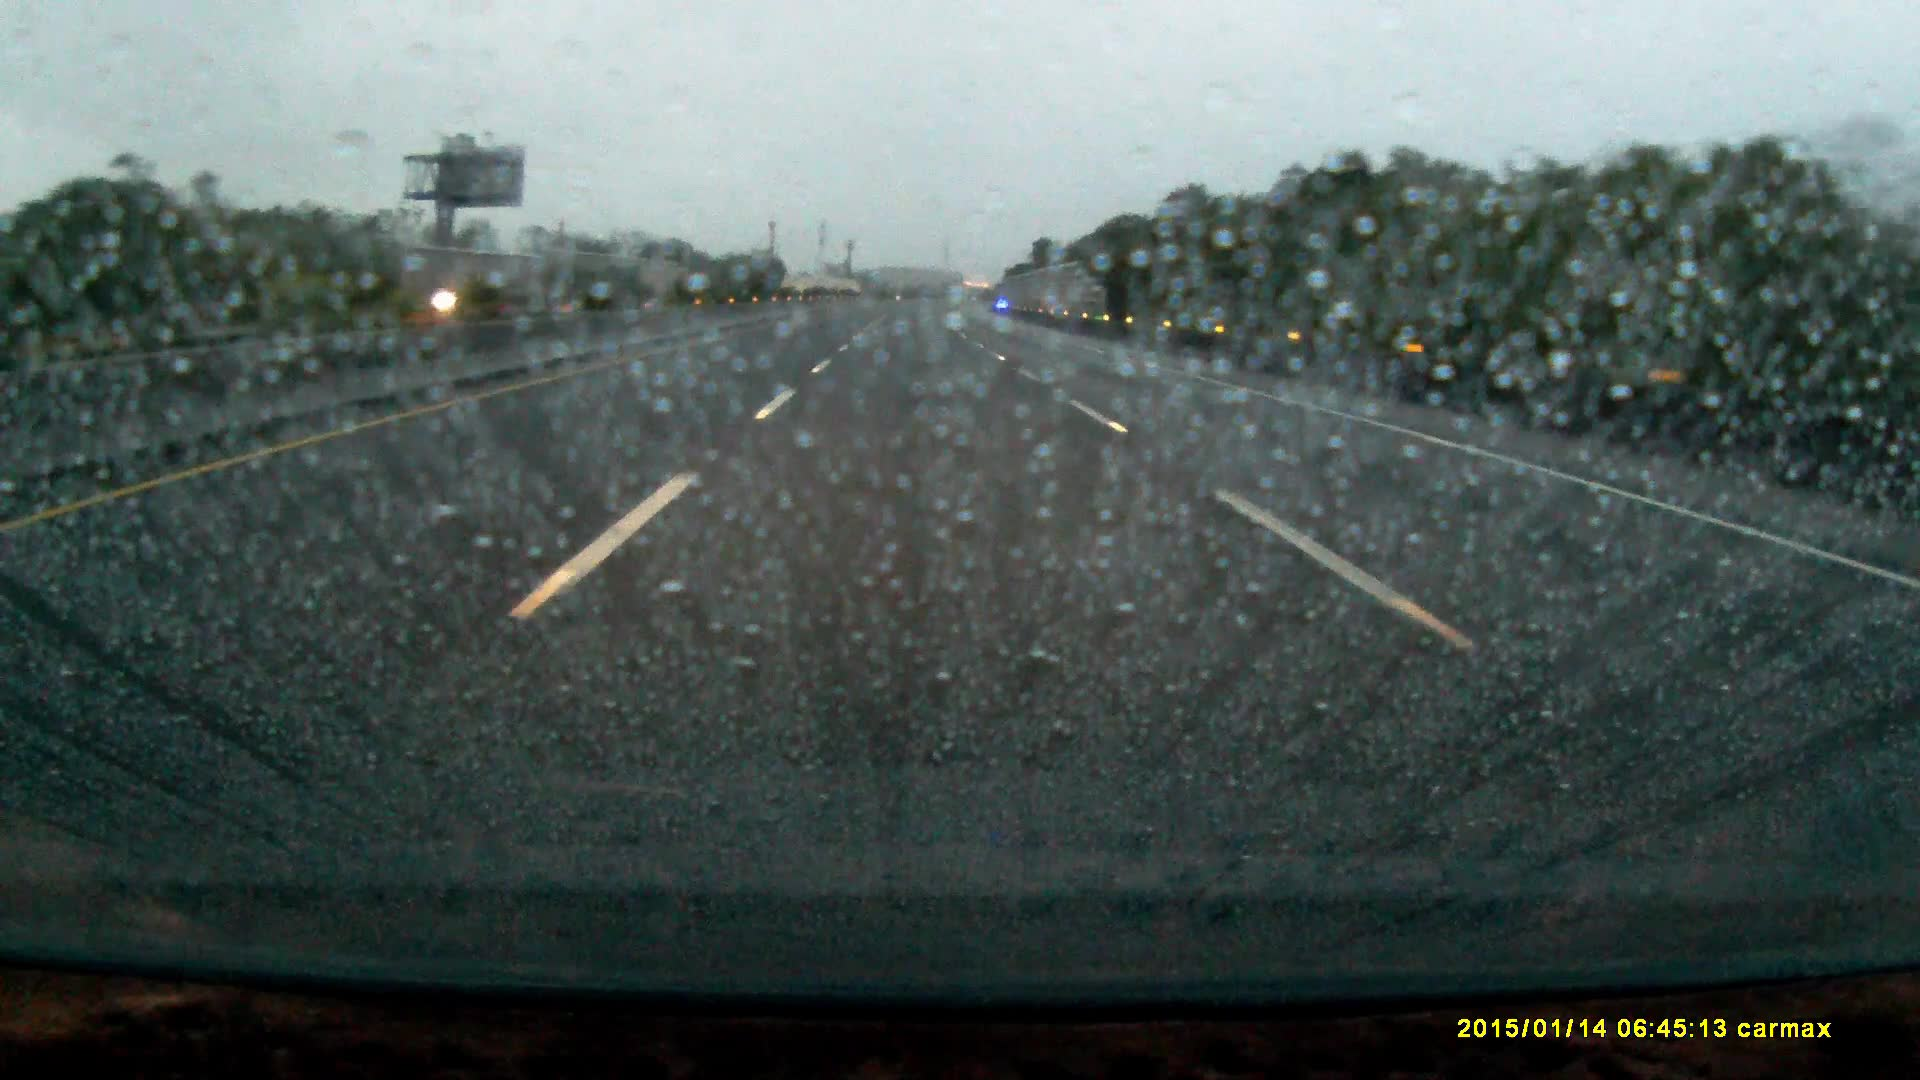vehicle: (405, 269, 525, 314)
